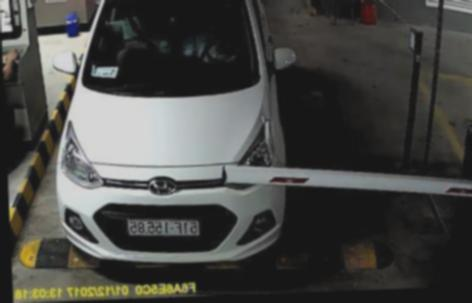License_Plate: (127, 215, 200, 237)
